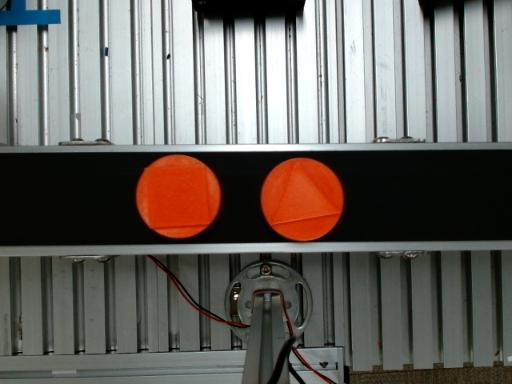Not_Square: (268, 158, 343, 227)
Orange_Waper: (135, 155, 221, 238), (260, 158, 344, 241)
Square: (144, 164, 212, 230)
